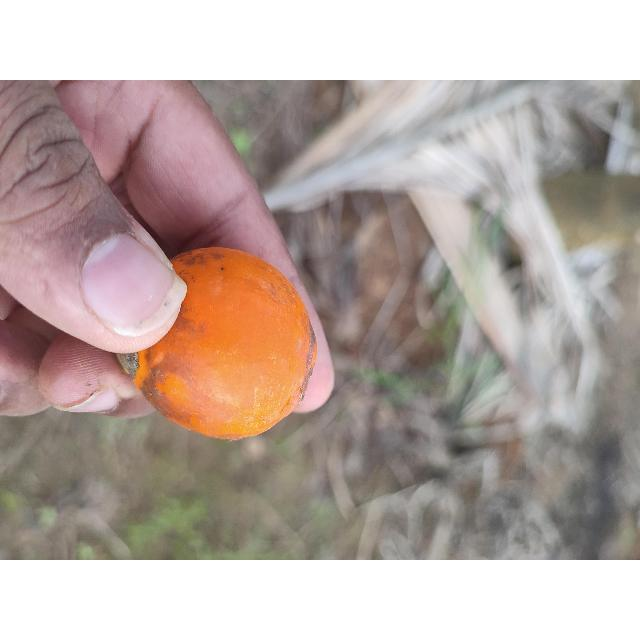good: (119, 247, 317, 441)
